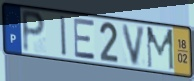2: (99, 21, 121, 65)
E: (72, 18, 97, 62)
I: (59, 14, 69, 59)
M: (145, 25, 176, 72)
P: (21, 8, 47, 55)
V: (120, 23, 148, 68)
